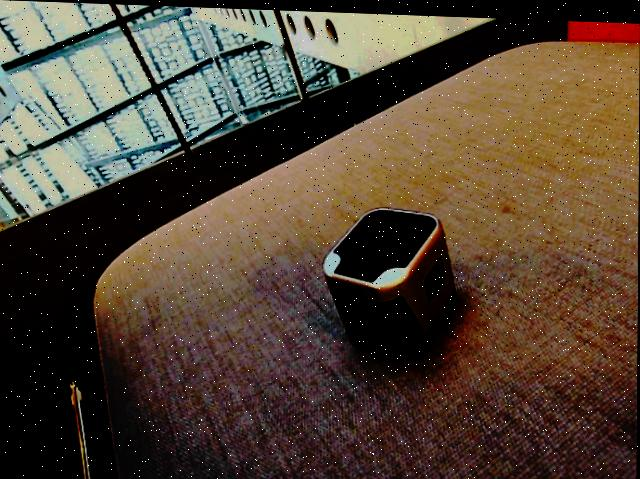adapter: (322, 202, 457, 357)
